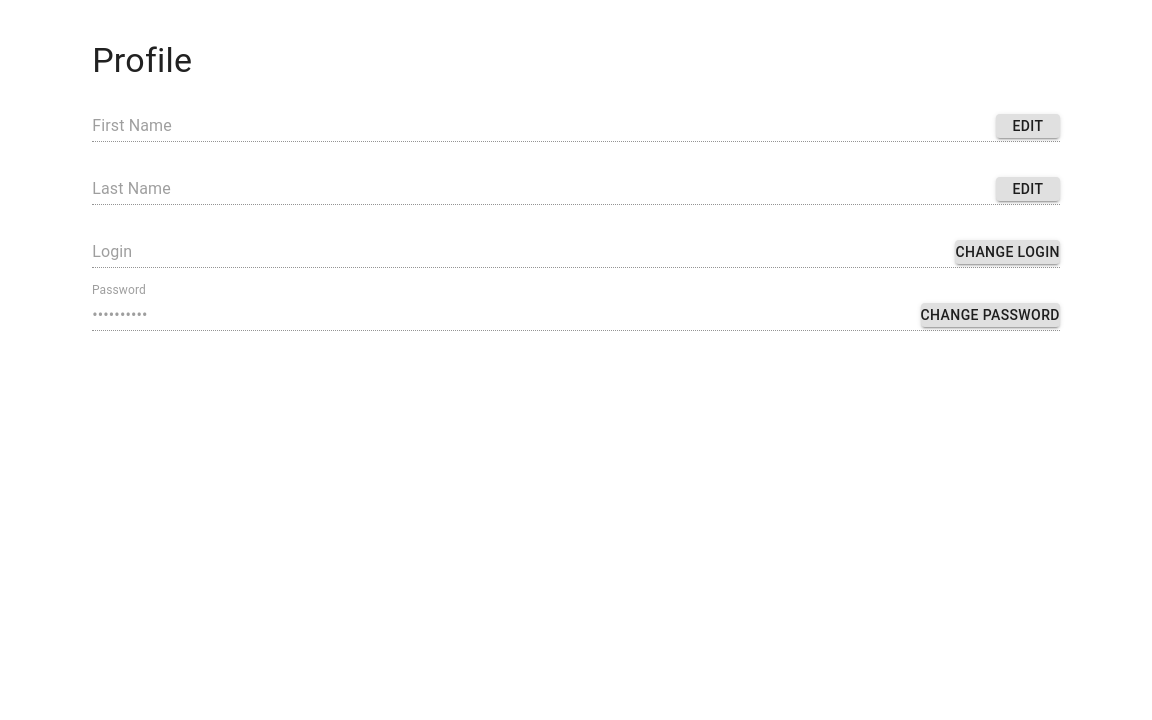
Test: Testing render › should open change password modal
The image size is (1152, 720).
Step 1. Click the button "Change password" → (990, 315), box [921,303,1060,327]
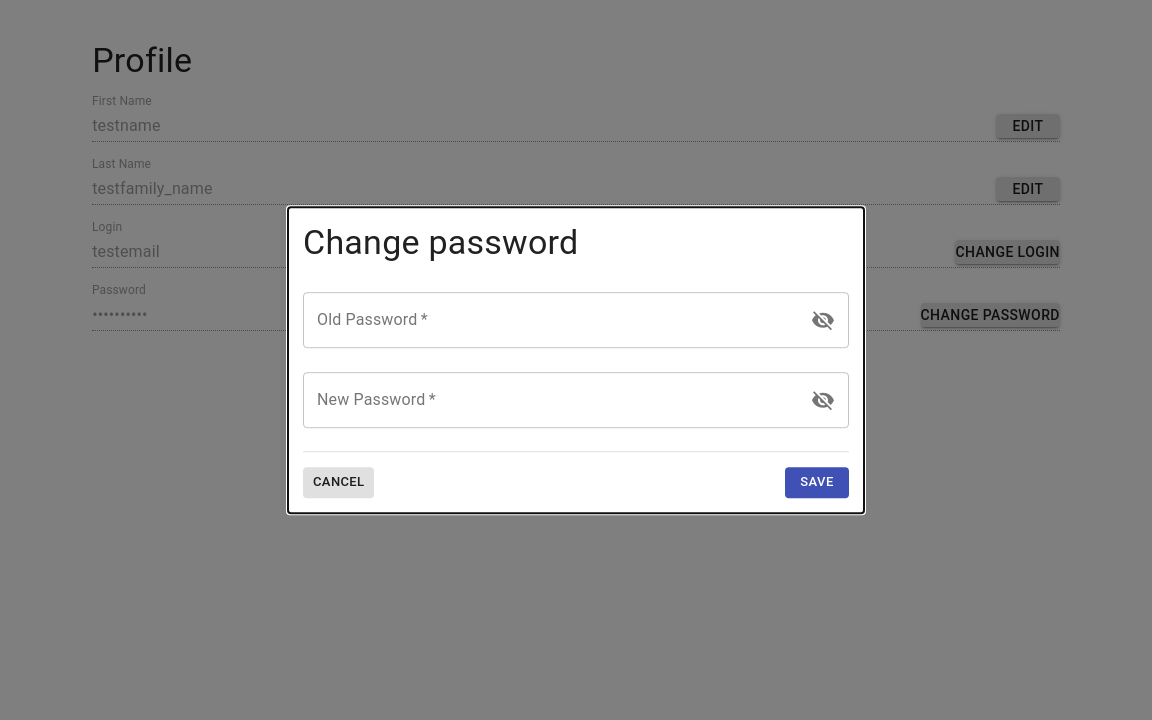
Expected: the heading "Change password" is shown, [303,222,578,262]
